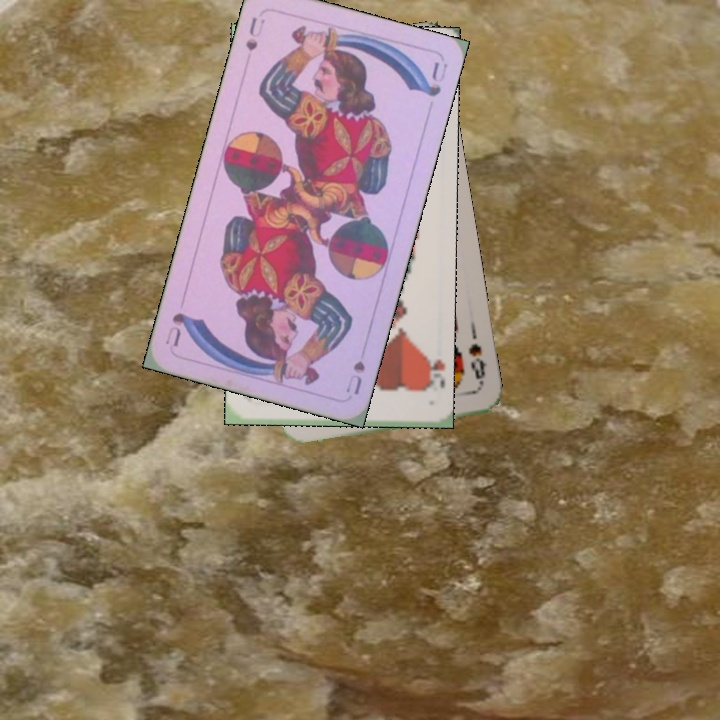HO: (418, 348, 446, 393)
S8: (464, 339, 488, 393)
SU: (341, 357, 368, 398), (241, 13, 268, 54)
